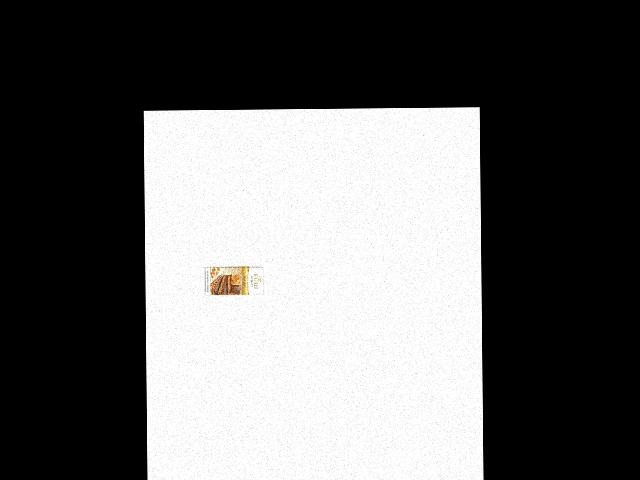chocolate: (202, 255, 267, 301)
